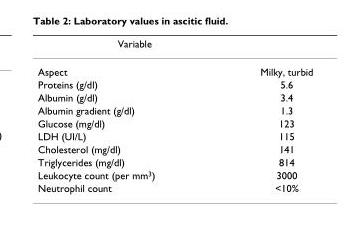table: (37, 37, 312, 193)
table column: (37, 37, 206, 193), (206, 37, 312, 193)
table column header: (37, 37, 312, 57)
table row: (37, 37, 312, 57), (37, 57, 312, 77), (37, 77, 312, 90), (37, 90, 312, 103), (37, 103, 312, 116), (37, 116, 312, 129), (37, 129, 312, 142), (37, 142, 312, 155), (37, 155, 312, 168), (37, 168, 312, 181), (37, 181, 312, 193)
